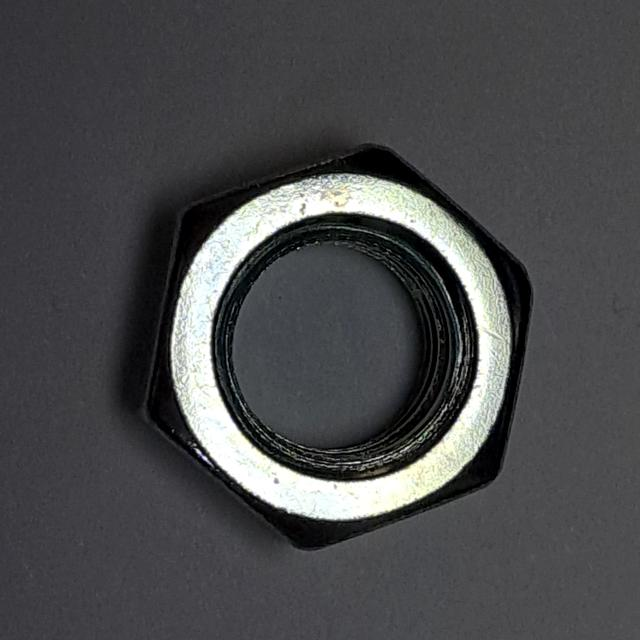Excellent: (124, 130, 550, 567)
